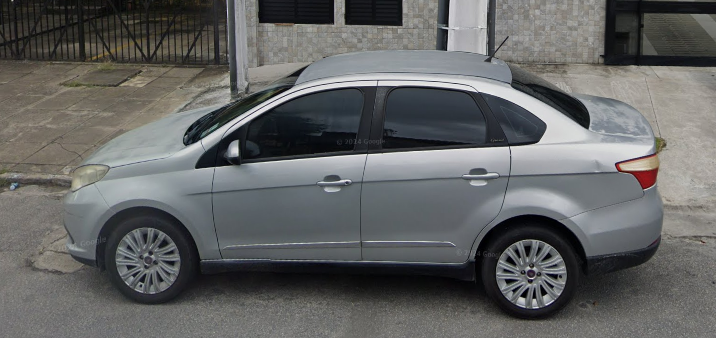car: (59, 46, 672, 320)
